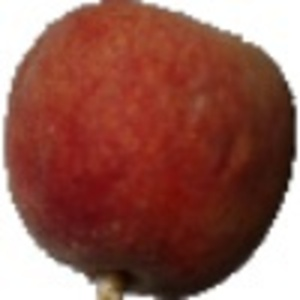pêssego: (2, 1, 299, 300)
